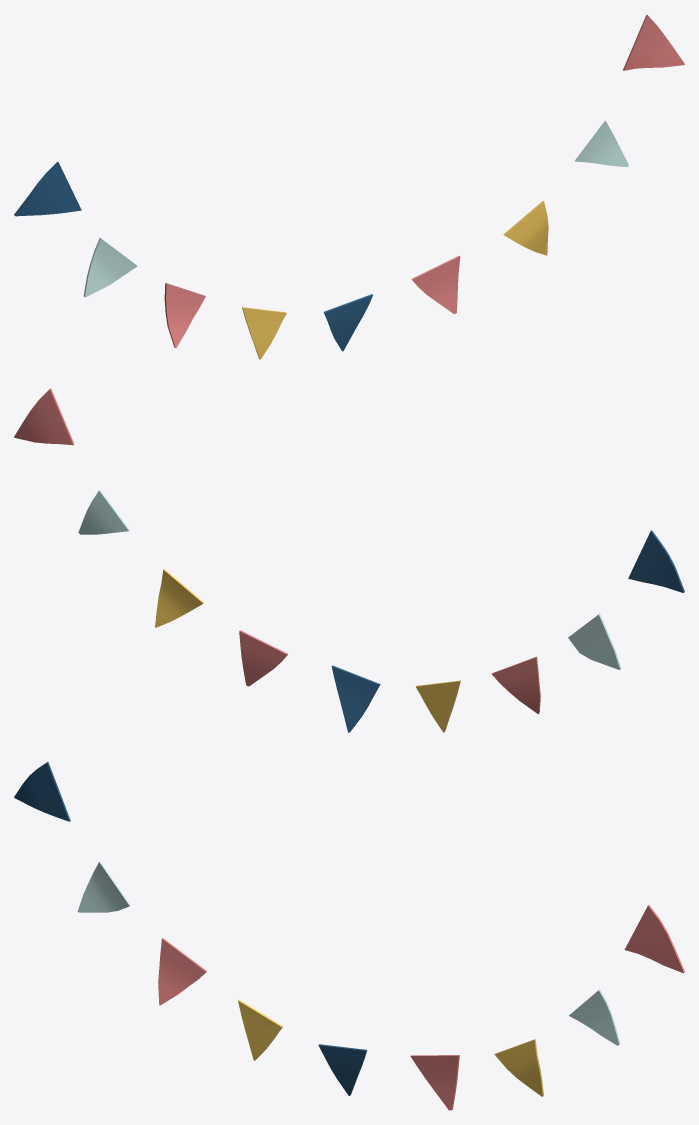
File: PropBirthdayFlags.glb
The picture shows the model from 3 angles, top to bottom: view 1: azimuth 30°, elevation 25°; view 2: azimuth 150°, elevation 25°; view 3: azimuth 330°, elevation 25°; orthographic projection.
Parts seen in each view (by area): view 1: PropBirthdayFlags; view 2: PropBirthdayFlags; view 3: PropBirthdayFlags.
Part boxes in pixels (x1,y1,x2,y2): PropBirthdayFlags: [14, 14, 684, 359]; PropBirthdayFlags: [14, 388, 684, 732]; PropBirthdayFlags: [14, 762, 684, 1110].
Bounding box in the file's own units: 51.18 × 19.5 × 1.58.
1 material, 1 textured.
